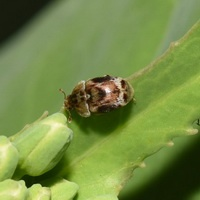insect: (59, 75, 133, 120)
